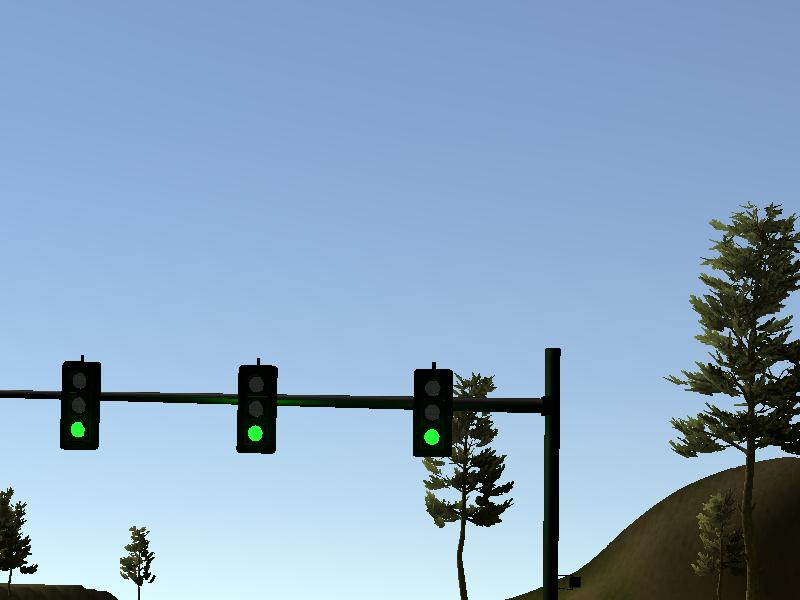green: (61, 359, 101, 450), (237, 364, 277, 455), (413, 366, 453, 457)
